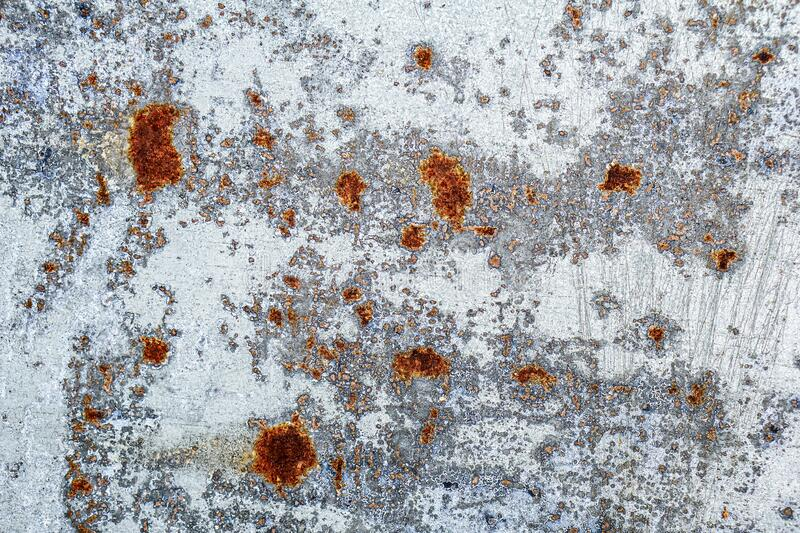rust: (1, 2, 800, 533)
